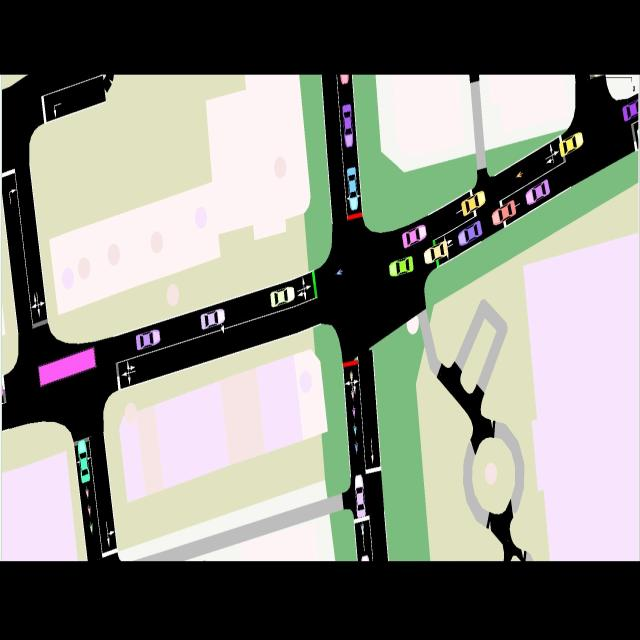vehicle: (37, 347, 96, 391), (524, 178, 551, 206), (459, 190, 488, 216), (491, 200, 517, 228), (422, 239, 450, 265), (75, 438, 90, 484), (558, 132, 584, 158), (458, 222, 483, 248), (402, 223, 426, 250), (345, 168, 359, 214), (387, 256, 415, 278), (353, 472, 365, 522), (341, 101, 353, 151), (133, 329, 161, 350), (200, 307, 225, 330), (269, 286, 295, 308)
